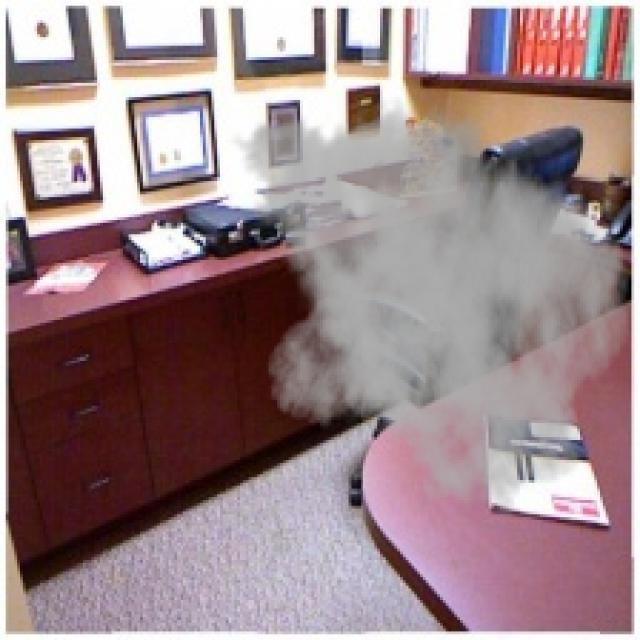smoke: (226, 94, 631, 520)
